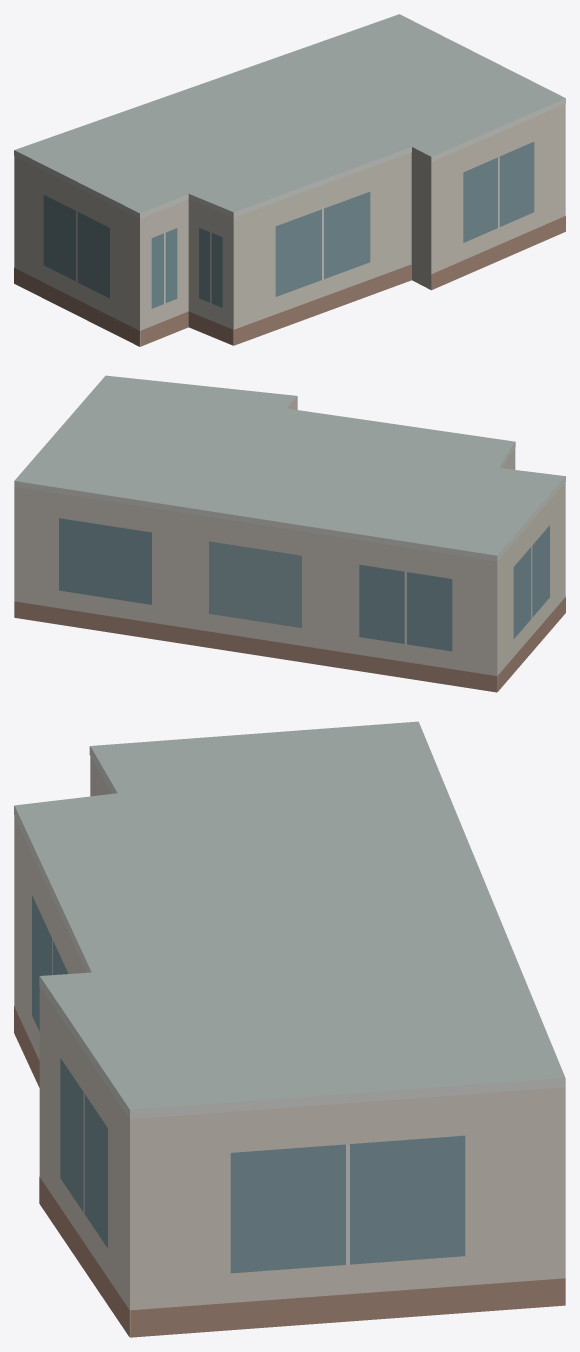
The model's file is survey-upis-32979571.glb.
3 views of the same model, one above another, from view 1: azimuth 30°, elevation 25°; view 2: azimuth 150°, elevation 25°; view 3: azimuth 270°, elevation 25° (orthographic). The views are drawn at different scales.
Visible parts, largest first — view 1: survey-upis-32979571.tmp; view 2: survey-upis-32979571.tmp; view 3: survey-upis-32979571.tmp.
Boxes of the visible parts, x1,y1,x2,y2 form: survey-upis-32979571.tmp: (14, 14, 565, 346); survey-upis-32979571.tmp: (14, 375, 565, 692); survey-upis-32979571.tmp: (14, 721, 565, 1337).
Bounding box in the file's own units: 11.18 × 3.05 × 6.71.
